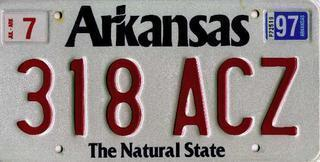placa de veiculo: (1, 1, 317, 159)
